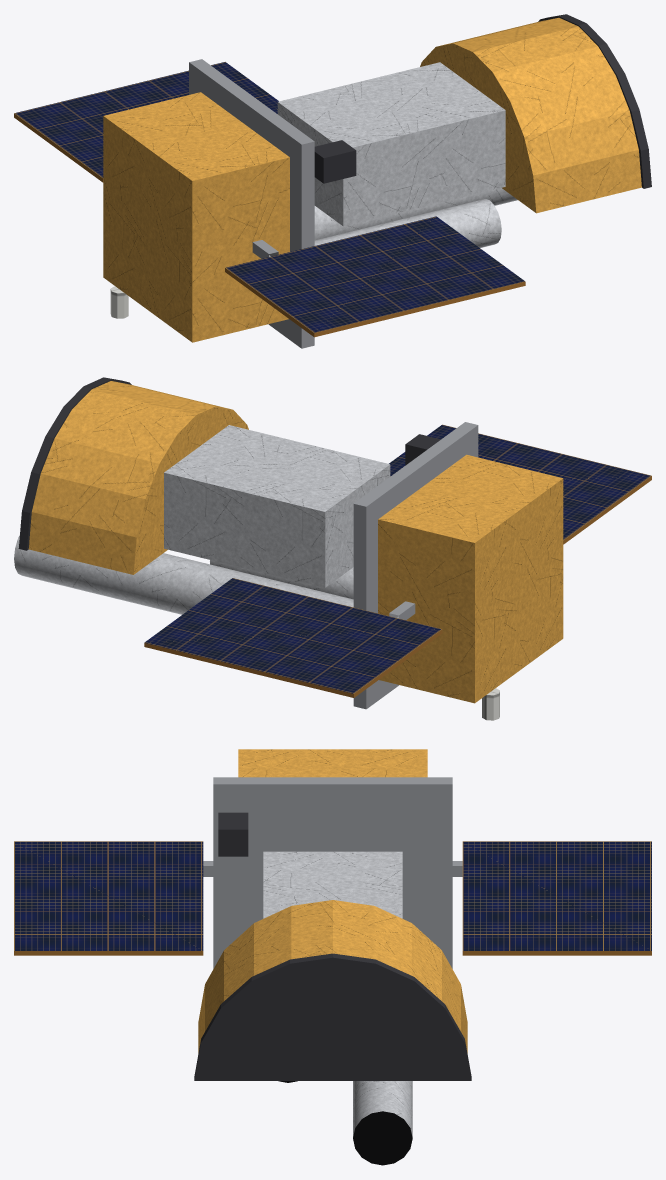
The model's file is swift.glb.
The picture shows the model from 3 angles, top to bottom: view 1: azimuth 30°, elevation 25°; view 2: azimuth 150°, elevation 25°; view 3: azimuth 270°, elevation 25°; orthographic projection. The views are drawn at different scales.
Parts seen in each view (by area): view 1: swift; view 2: swift; view 3: swift.
Part boxes in pixels (left/top/right/bottom): swift: left=14, top=14, right=651, bottom=348; swift: left=14, top=377, right=651, bottom=720; swift: left=14, top=749, right=651, bottom=1165.
Bounding box in the file's own units: 5.9 × 2.45 × 6.4.
8 materials, 4 textured.
